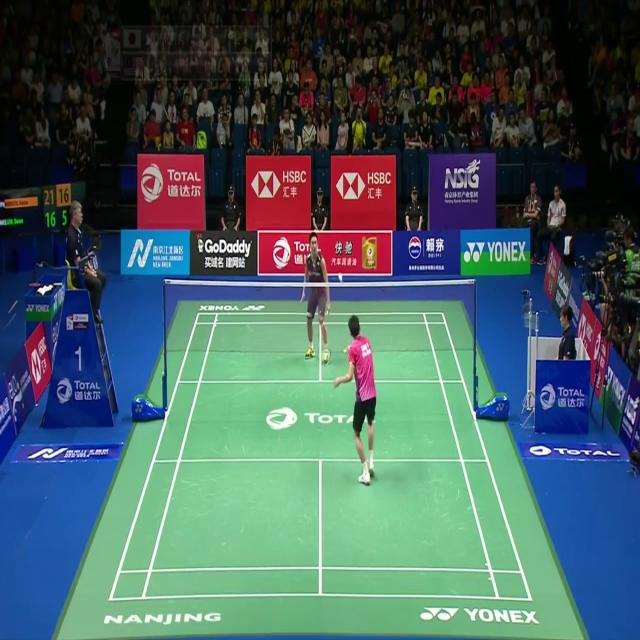Shuttlecock: (337, 270, 343, 281)
